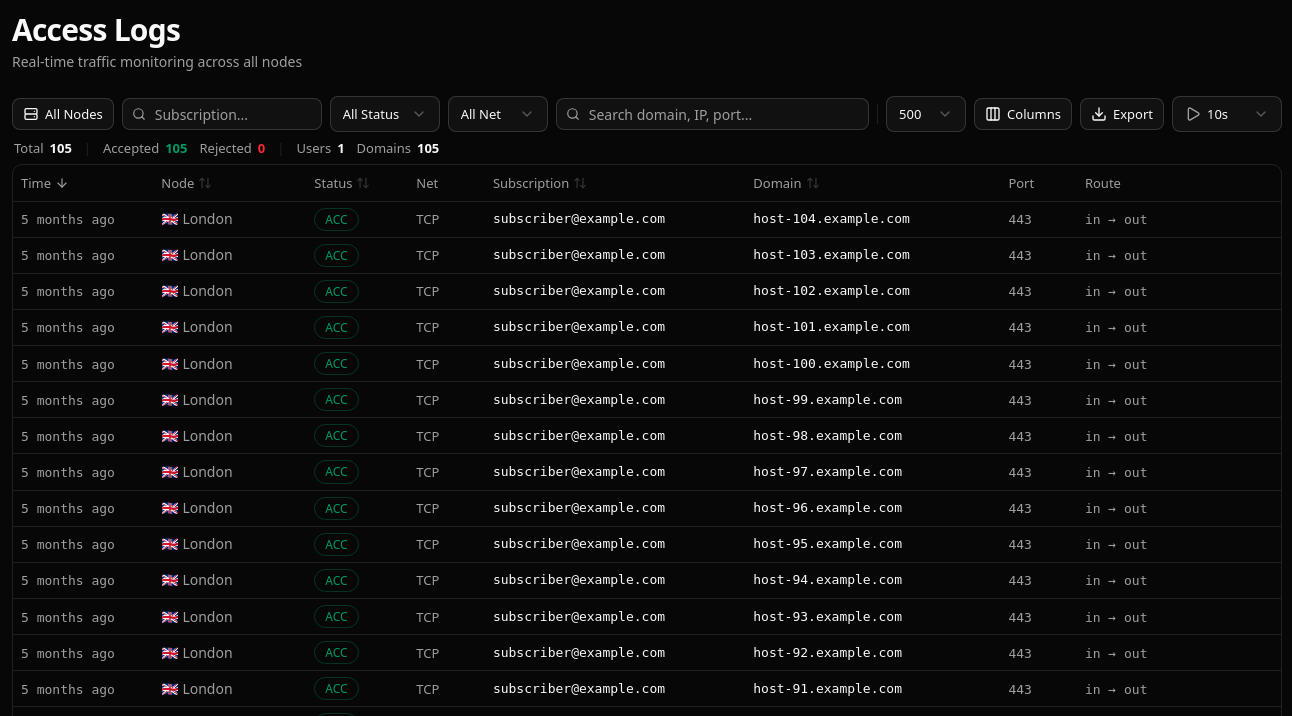
it: filters loaded access logs by domain
Type "host-42.example.com" into the field with placeholder "Search domain, IP, port...". click: coordinates (712, 114)
box: [556,98,869,130]
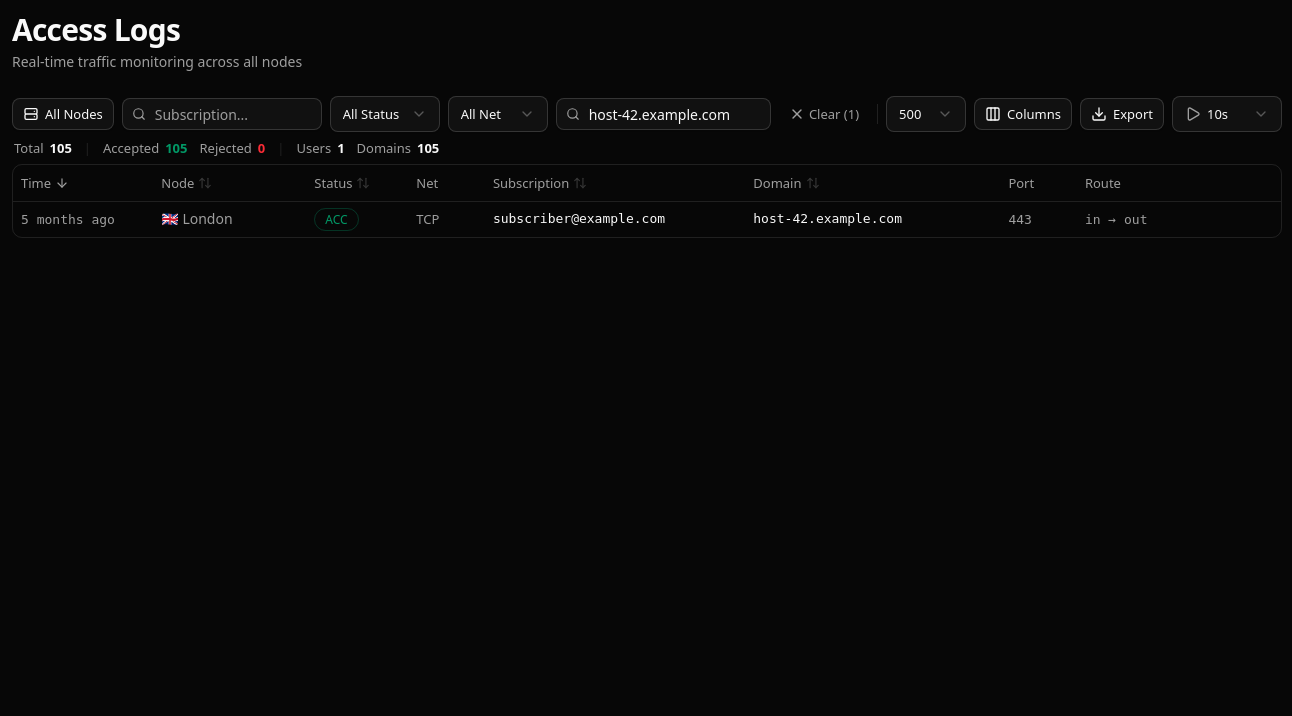
Expected: the text "host-42.example.com" is shown, [753,211,902,227]
Now the number of rows is 2, box [13,165,1281,201]; [13,201,1281,237]
Now the button "host-104.example.com" is gone
